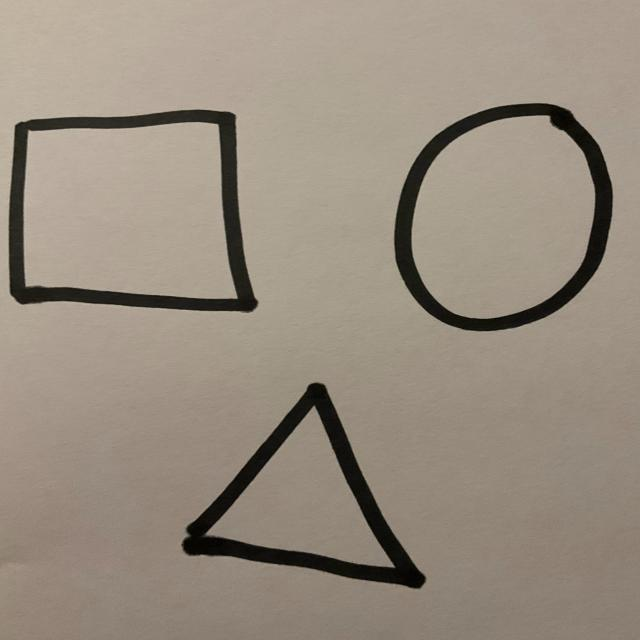Dreieck: (183, 383, 426, 591)
Kreis: (394, 103, 614, 335)
Quadrat: (7, 111, 259, 315)
